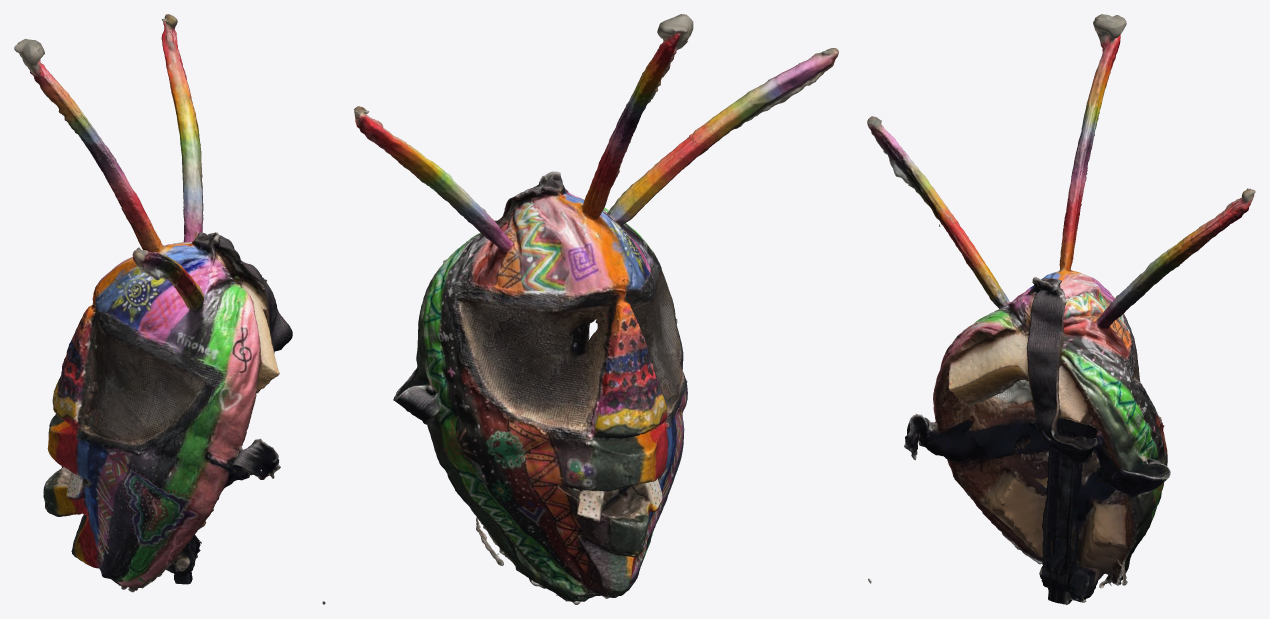
File: vejigante-mask-3.glb
3 views of the same model, side by side, from view 1: azimuth 30°, elevation 25°; view 2: azimuth 150°, elevation 25°; view 3: azimuth 270°, elevation 25° (orthographic). The views are drawn at different scales.
Visible parts, largest first — view 1: 3DModel; view 2: 3DModel; view 3: 3DModel.
Boxes of the visible parts, box(x1,y1,x2,y2) form: 3DModel: box(14, 14, 325, 604); 3DModel: box(354, 14, 838, 604); 3DModel: box(867, 14, 1255, 604).
Size of the model in its own units: 1.6 by 3.32 by 2.22.
1 material, 1 textured.
